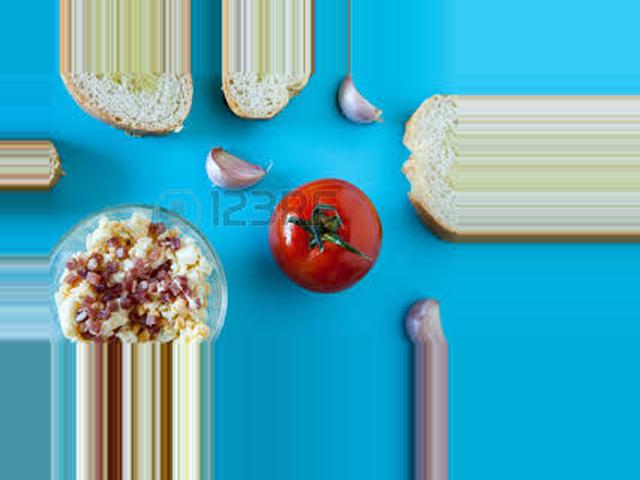tomato: (273, 177, 382, 293)
